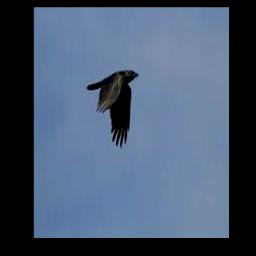Crow: (87, 70, 139, 148)
